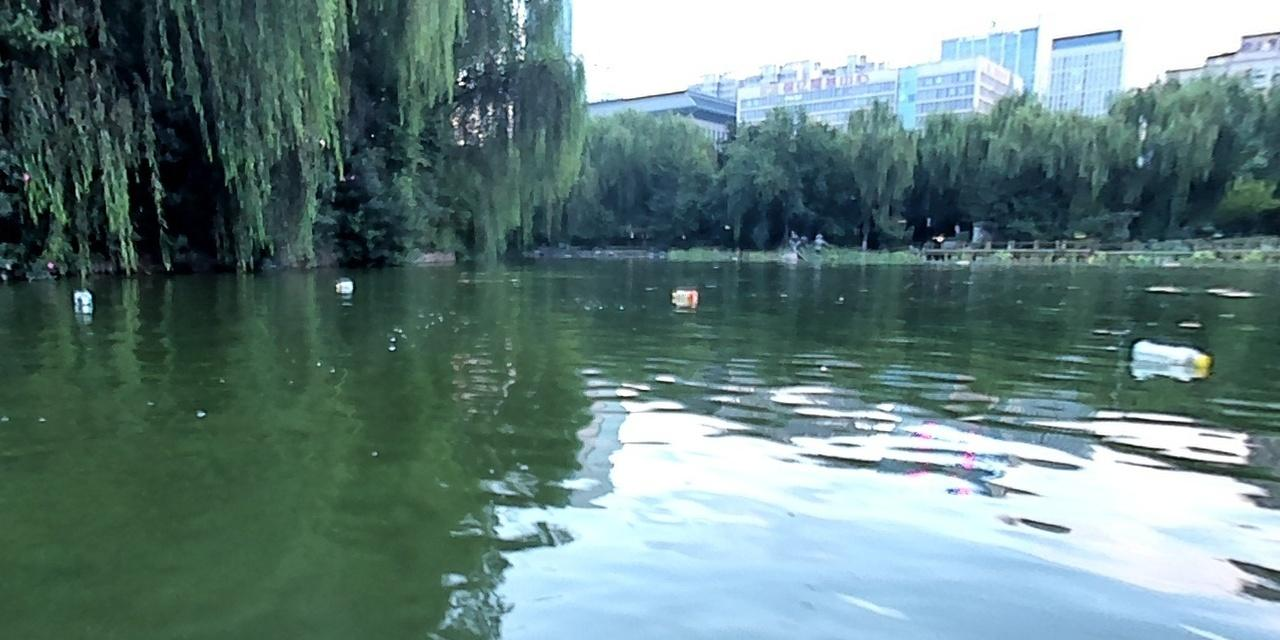bottle: (1129, 338, 1209, 373), (669, 288, 698, 300), (72, 290, 89, 303), (334, 279, 350, 290)
